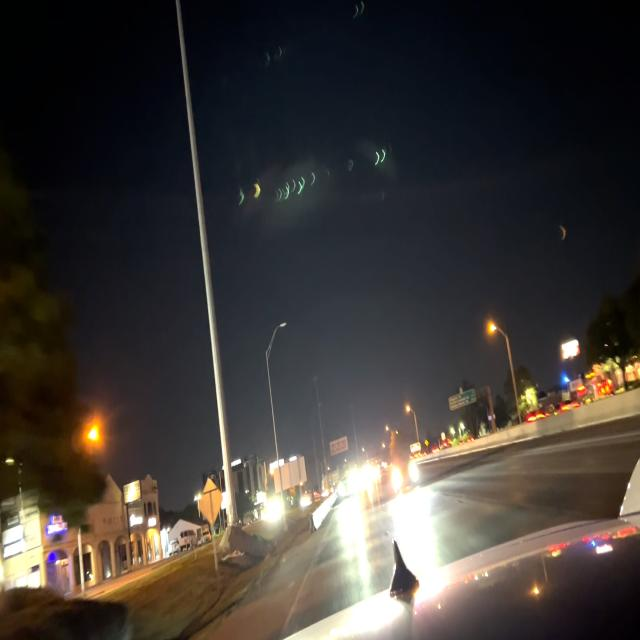back-of-sign: (199, 479, 223, 528)
